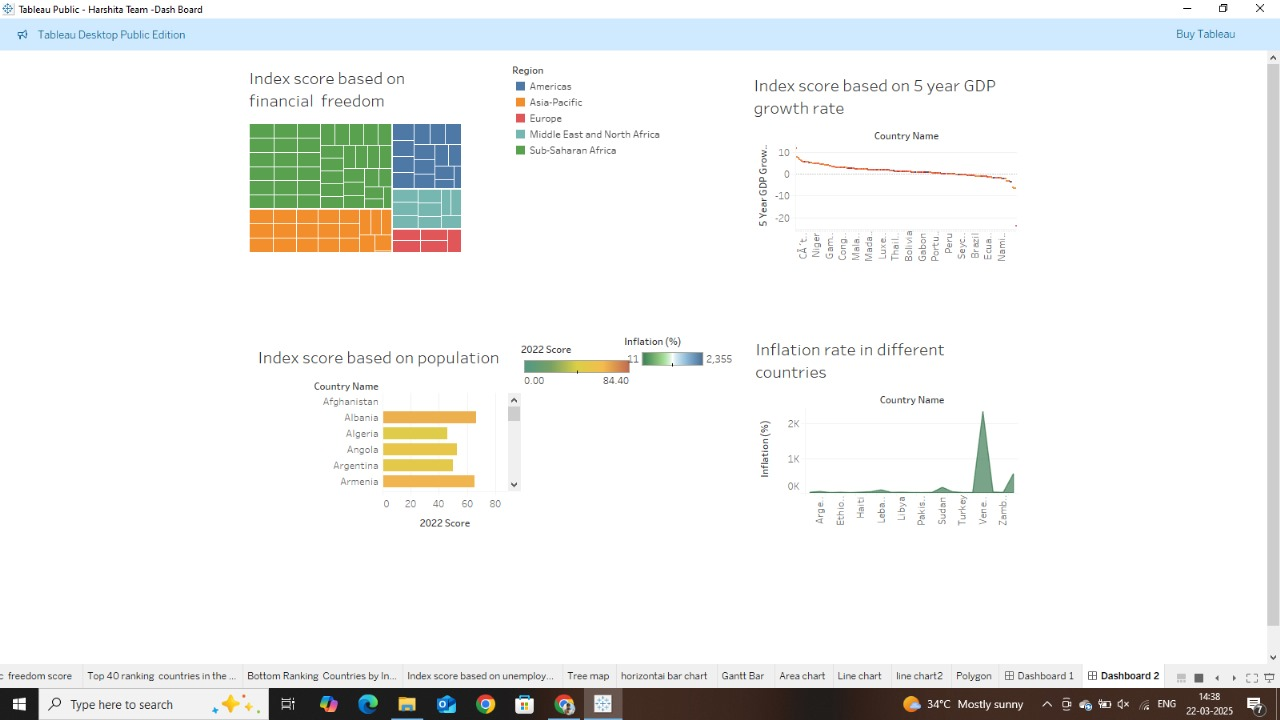

What the dashboard file says about the page in this screenshot:
{"tool":"tableau","page":{"name":"Dashboard 2","canvas":[1000,800],"ordinal":1},"visuals":[{"type":"worksheet","title":"Tree map","mark":"Automatic","box":[16,16,333,241]},{"type":"legend","title":"Tree map","param":"[federated.0pbhh900wvvba615hu5fw183r2ev].[none:Region:nk]","box":[349,16,189,118]},{"type":"worksheet","title":"Gantt Bar ","mark":"GanttBar","rows":["5 Year GDP Growth Rate (%)"],"cols":["Country Name"],"box":[647,25,333,241]},{"type":"legend","title":"Area chart","param":"[federated.0pbhh900wvvba615hu5fw183r2ev].[sum:Inflation (%):qk]","box":[489,355,140,76]},{"type":"worksheet","title":"Area chart","mark":"Area","rows":["Inflation (%)"],"cols":["Country Name"],"box":[649,355,333,241]},{"type":"worksheet","title":"horizontai bar chart","mark":"Automatic","rows":["Country Name"],"cols":["2022 Score"],"box":[27,365,333,241]},{"type":"legend","title":"horizontai bar chart","param":"[federated.0pbhh900wvvba615hu5fw183r2ev].[sum:2022 Score:qk]","box":[360,365,140,76]},{"type":"dashboard-object","box":[810,661,164,52]}]}

Visuals, with their boxes on the page's 1000x800 design canvas (x1, y1, x2, y2). These are canvas units, not pixel positions in the 1280x720 screenshot, which may show the page scaled, cropped or inside an application window:
"Tree map" worksheet: (16,16,349,257)
"Tree map" legend: (349,16,538,134)
"Gantt Bar " worksheet (GanttBar marks): (647,25,980,266)
"Area chart" legend: (489,355,629,431)
"Area chart" worksheet (Area marks): (649,355,982,596)
"horizontai bar chart" worksheet: (27,365,360,606)
"horizontai bar chart" legend: (360,365,500,441)
dashboard-object: (810,661,974,713)
